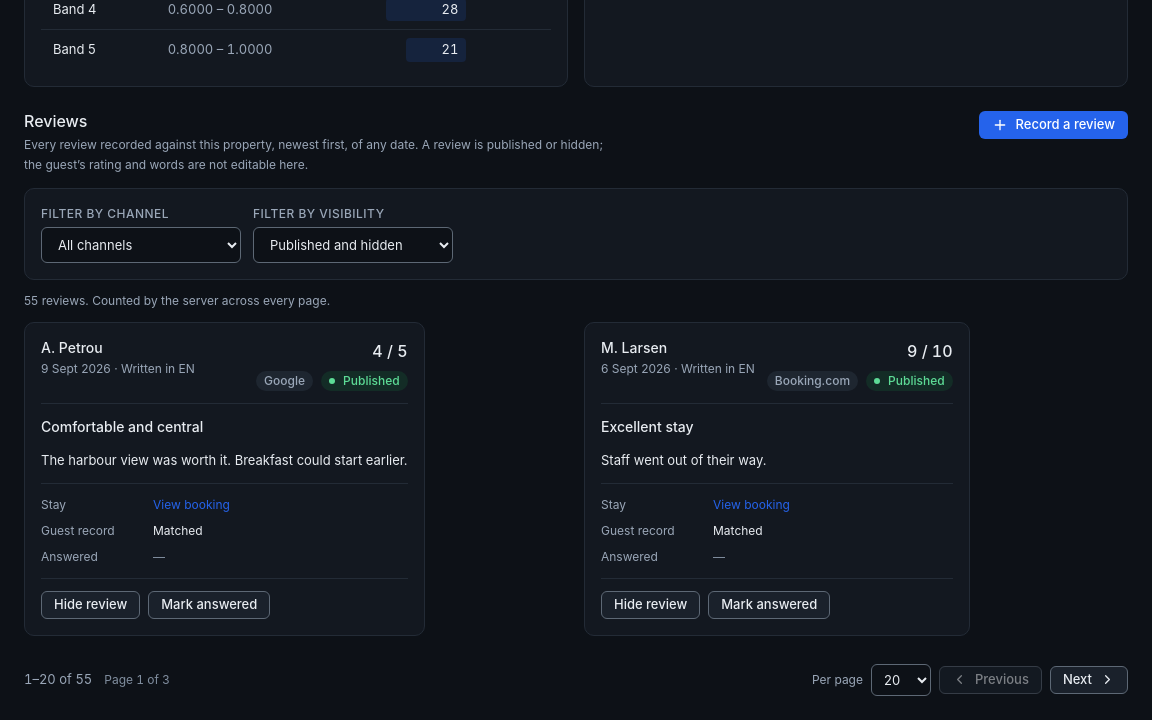
Test case: moderation › reads back the field that changed, not whichever one is handy
(page scrolled)
Expected: the text "Comfortable and central" is shown, x1=41 y1=418 x2=203 y2=435
Click the button "Mark answered" below "Comfortable and central" at point(209, 605), box x1=148 y1=591 x2=270 y2=619
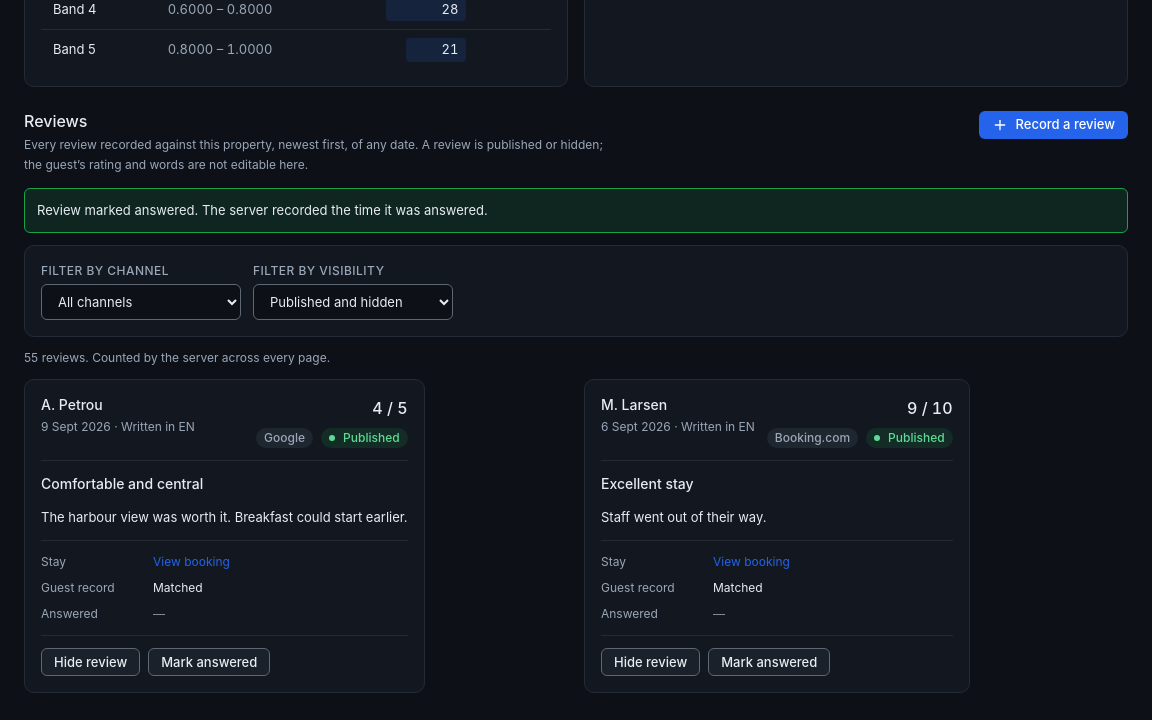
Expected: the text "Review marked answered. The server recorded the time it was answered." is shown, x1=24 y1=188 x2=1128 y2=233
